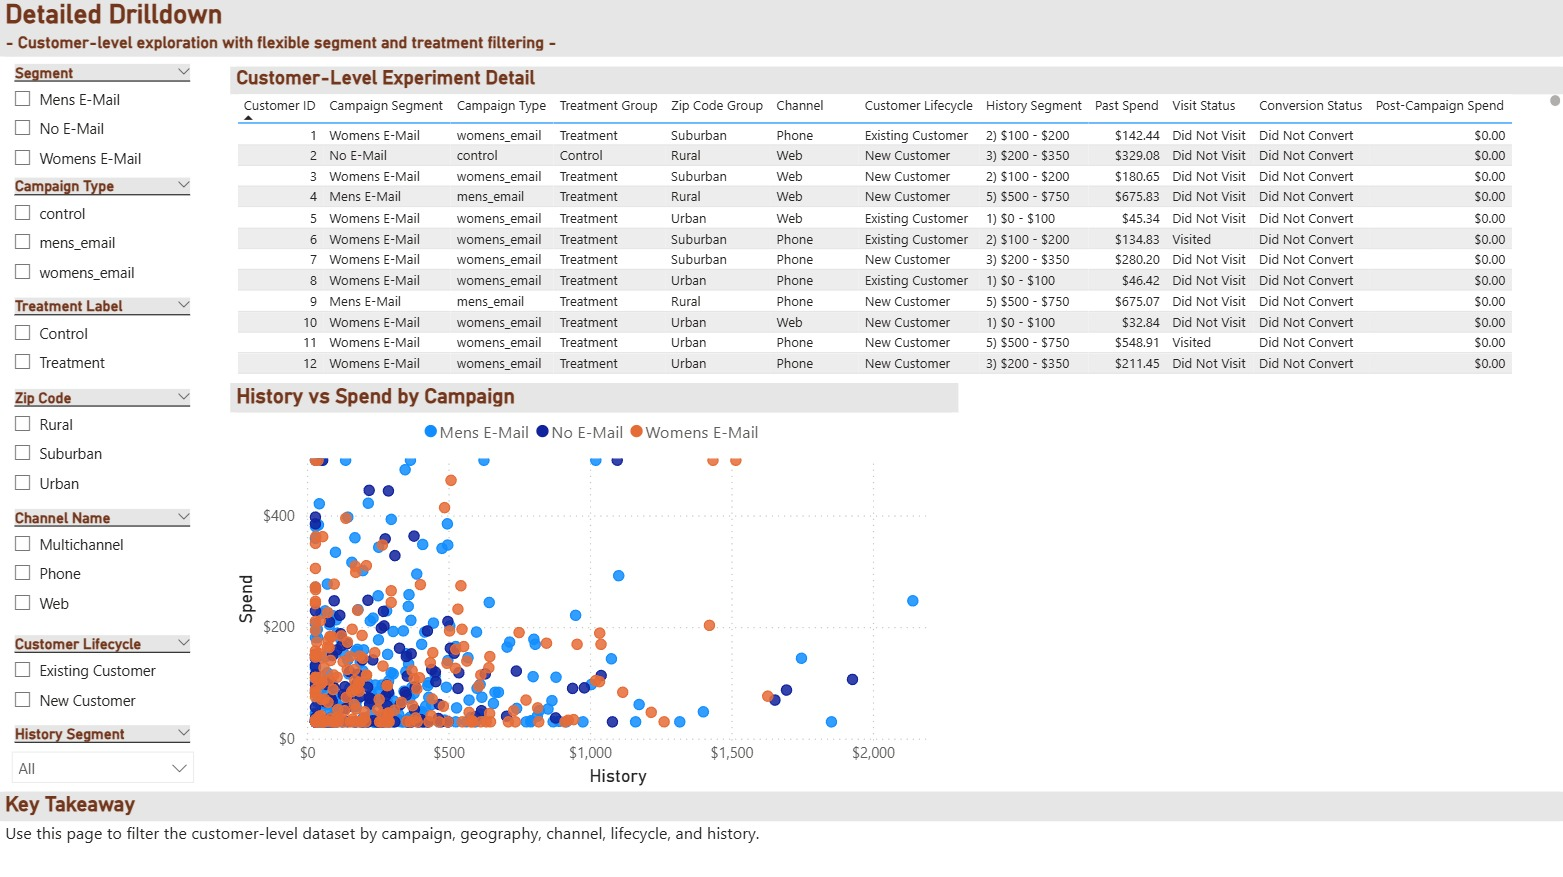

What the dashboard file says about the page in this screenshot:
{"tool":"powerbi","page":{"name":"Detailed Drilldown","canvas":[1280,720],"ordinal":3},"visuals":[{"type":"textbox","title":"Detailed Drilldown","box":[0,0,1279,29],"z":0},{"type":"textbox","title":"- Customer-level exploration with flexible segment and treatment filtering -","box":[0,29,1279,20],"z":1000},{"type":"tableEx","title":"Customer-Level Experiment Detail","fields":{"Values":["Customer Experiment Detail.customer_id","Customer Experiment Detail.segment","Customer Experiment Detail.campaign_type","Customer Experiment Detail.Treatment Label","Customer Experiment Detail.zip_code_name","Customer Experiment Detail.channel_name","Customer Experiment Detail.Customer Lifecycle","Customer Experiment Detail.history_segment","Customer Experiment Detail.history","Customer Experiment Detail.Visit Status","Customer Experiment Detail.Conversion Status","Customer Experiment Detail.spend"]},"box":[189,56,1091,258],"z":2000},{"type":"scatterChart","title":"History vs Spend by Campaign","fields":{"X":["Avg(Customer Experiment Detail.history)"],"Y":["Avg(Customer Experiment Detail.spend)"],"Series":["Customer Experiment Detail.segment"],"Category":["Customer Experiment Detail.customer_id"]},"box":[189,314,594,334],"z":3000},{"type":"slicer","fields":{"Values":["Customer Experiment Detail.segment"]},"box":[0,49,169,100],"z":4000},{"type":"slicer","fields":{"Values":["Customer Experiment Detail.campaign_type"]},"box":[0,142,169,98],"z":5000},{"type":"slicer","fields":{"Values":["Customer Experiment Detail.Treatment Label"]},"box":[0,240,169,74],"z":6000},{"type":"slicer","fields":{"Values":["Customer Experiment Detail.zip_code_name"]},"box":[0,314,169,98],"z":7000},{"type":"slicer","fields":{"Values":["Customer Experiment Detail.channel_name"]},"box":[0,412,169,103],"z":8000},{"type":"slicer","fields":{"Values":["Customer Experiment Detail.Customer Lifecycle"]},"box":[0,515,169,74],"z":9000},{"type":"slicer","fields":{"Values":["Customer Experiment Detail.history_segment"]},"box":[0,589,169,59],"z":10000},{"type":"textbox","title":"Key Takeaway","box":[0,648,1279,72],"z":11000}]}

Visuals, with their boxes in screenshot pixels (x1, y1, x2, y2), scaled from the page's 1280x720 canvas onto the 1563x877 screenshot:
"Detailed Drilldown" textbox: bbox(0, 0, 1562, 35)
"- Customer-level exploration with flexible segment and treatment filtering -" textbox: bbox(0, 35, 1562, 60)
"Customer-Level Experiment Detail" tableEx: bbox(231, 68, 1562, 382)
"History vs Spend by Campaign" scatterChart: bbox(231, 382, 956, 789)
slicer - Customer Experiment Detail.segment: bbox(0, 60, 206, 181)
slicer - Customer Experiment Detail.campaign_type: bbox(0, 173, 206, 292)
slicer - Customer Experiment Detail.Treatment Label: bbox(0, 292, 206, 382)
slicer - Customer Experiment Detail.zip_code_name: bbox(0, 382, 206, 502)
slicer - Customer Experiment Detail.channel_name: bbox(0, 502, 206, 627)
slicer - Customer Experiment Detail.Customer Lifecycle: bbox(0, 627, 206, 717)
slicer - Customer Experiment Detail.history_segment: bbox(0, 717, 206, 789)
"Key Takeaway" textbox: bbox(0, 789, 1562, 876)
